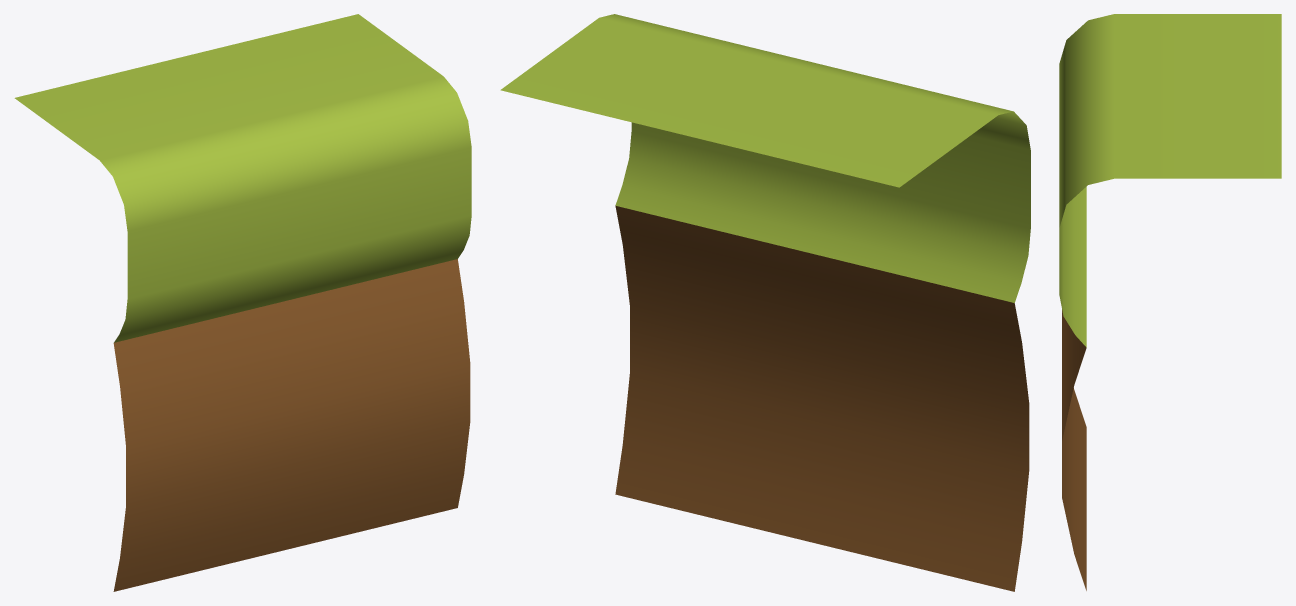
File: Borda2.fbx
The picture shows the model from 3 angles, left to right: view 1: azimuth 30°, elevation 25°; view 2: azimuth 150°, elevation 25°; view 3: azimuth 270°, elevation 25°; orthographic projection. The views are drawn at different scales.
Parts seen in each view (by area): view 1: Borda2; view 2: Borda2; view 3: Borda2.
Part boxes in pixels (box(x1,y1,x2,y2)): Borda2: box(14, 14, 471, 591); Borda2: box(500, 14, 1030, 591); Borda2: box(1059, 14, 1281, 590).
Bounding box in the file's own units: 100 × 117 × 57.
